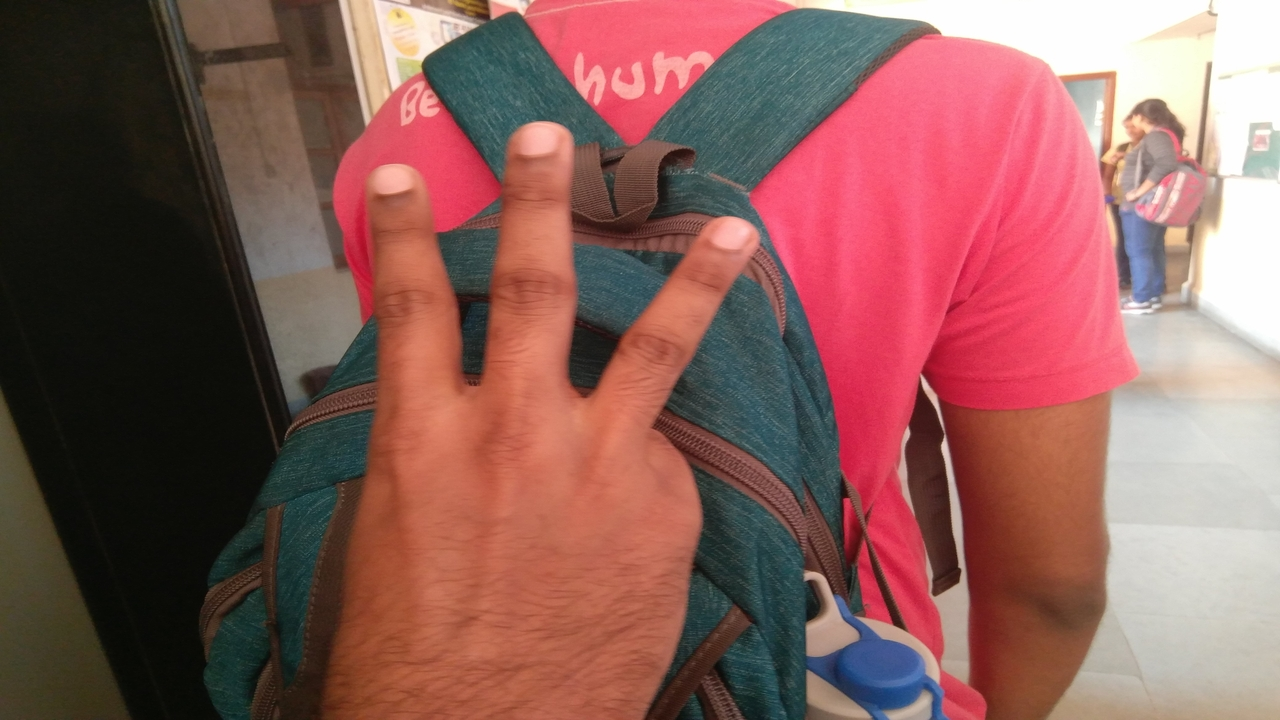fingertip: (502, 114, 572, 180), (692, 210, 764, 274), (356, 154, 422, 222)
